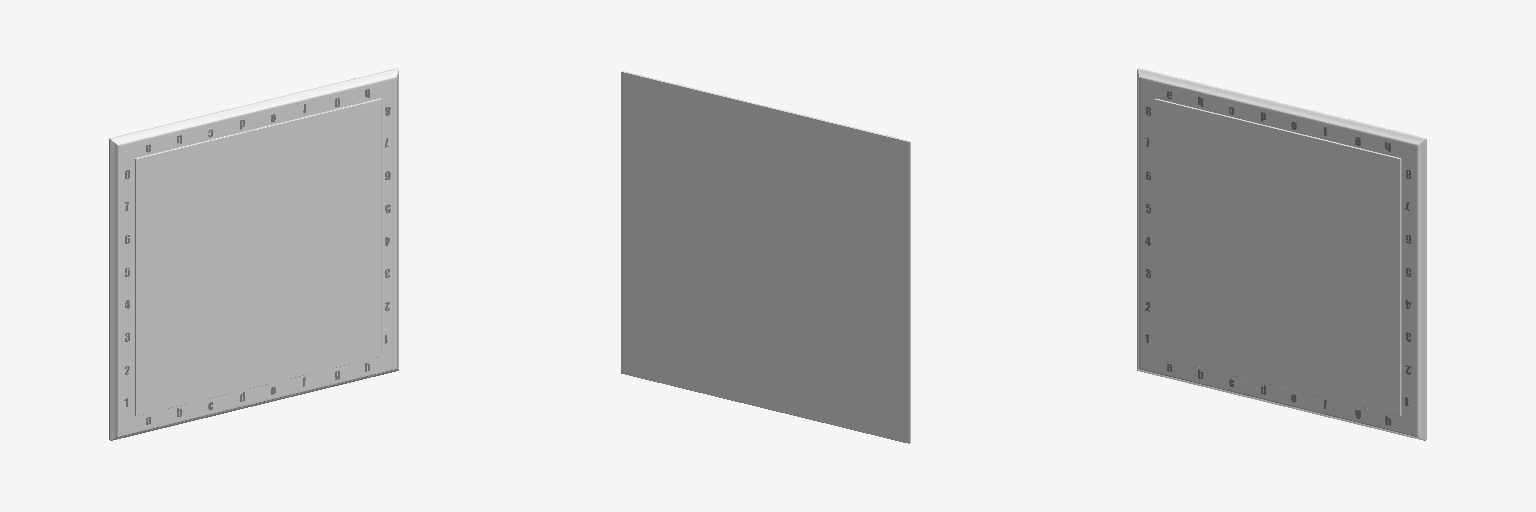
3 renders of one model, left to right at view 1: azimuth 30°, elevation 25°; view 2: azimuth 150°, elevation 25°; view 3: azimuth 330°, elevation 25°, orthographic.
Parts seen in each view (by area): view 1: 12951_Stone_Chess_Board 网格; view 2: 12951_Stone_Chess_Board 网格; view 3: 12951_Stone_Chess_Board 网格.
Part boxes in pixels (left/top/right/bottom): 12951_Stone_Chess_Board 网格: left=109, top=68, right=398, bottom=440; 12951_Stone_Chess_Board 网格: left=621, top=71, right=910, bottom=443; 12951_Stone_Chess_Board 网格: left=1137, top=68, right=1426, bottom=440.
Bounding box in the file's own units: 50.8 × 50.8 × 1.58.
Materials: 1 (1 with a texture image).